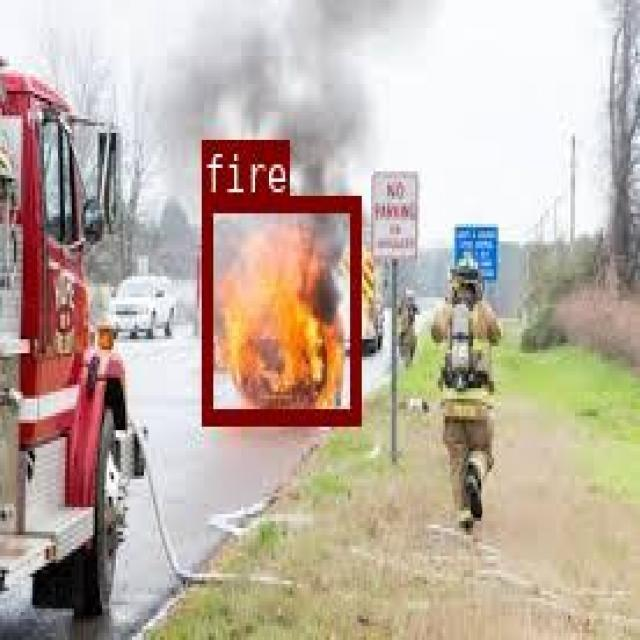fire: (200, 195, 359, 422)
